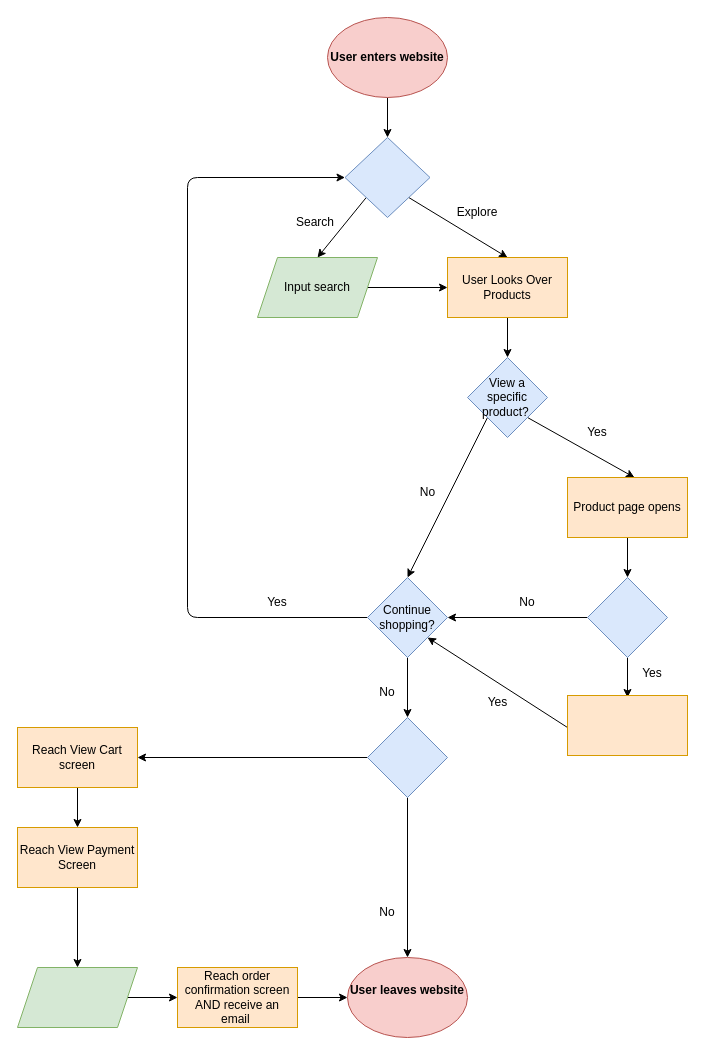
This 705x1055 diagram has some shape labels left out. The centre of each missing label's shape, as x and y in pixels:
"Add item to cart?" belongs at (627,617).
"Checkout?" belongs at (407,757).
"Input Payment Information" belongs at (77,997).
"Recieve an added to cart confirmation" belongs at (627,725).
"Search product OR e xplore products?" belongs at (387,177).
